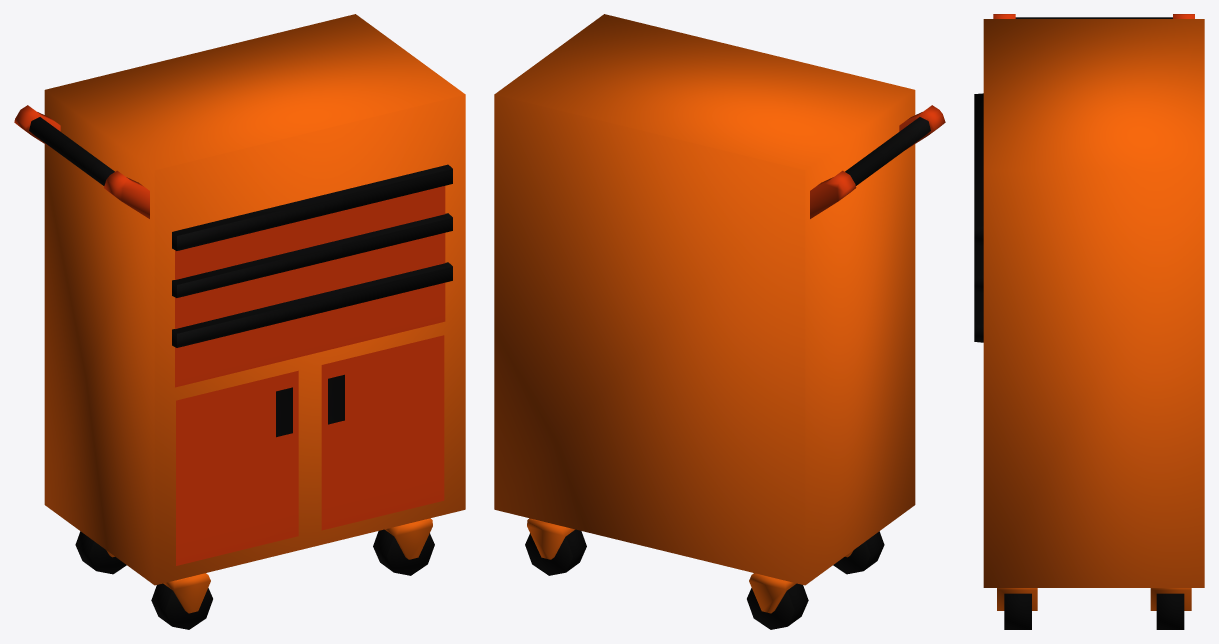
File: CarrinhoFerramentas.fbx
The picture shows the model from 3 angles, left to right: view 1: azimuth 30°, elevation 25°; view 2: azimuth 150°, elevation 25°; view 3: azimuth 270°, elevation 25°; orthographic projection.
Visible parts, largest first — view 1: CarrinhoFerramentas; view 2: CarrinhoFerramentas; view 3: CarrinhoFerramentas.
Part boxes in pixels (bbox=[...]): CarrinhoFerramentas: bbox=[14, 14, 465, 629]; CarrinhoFerramentas: bbox=[494, 14, 945, 629]; CarrinhoFerramentas: bbox=[974, 14, 1204, 629].
Size of the model in its own units: 80.07 by 106 by 45.98.
